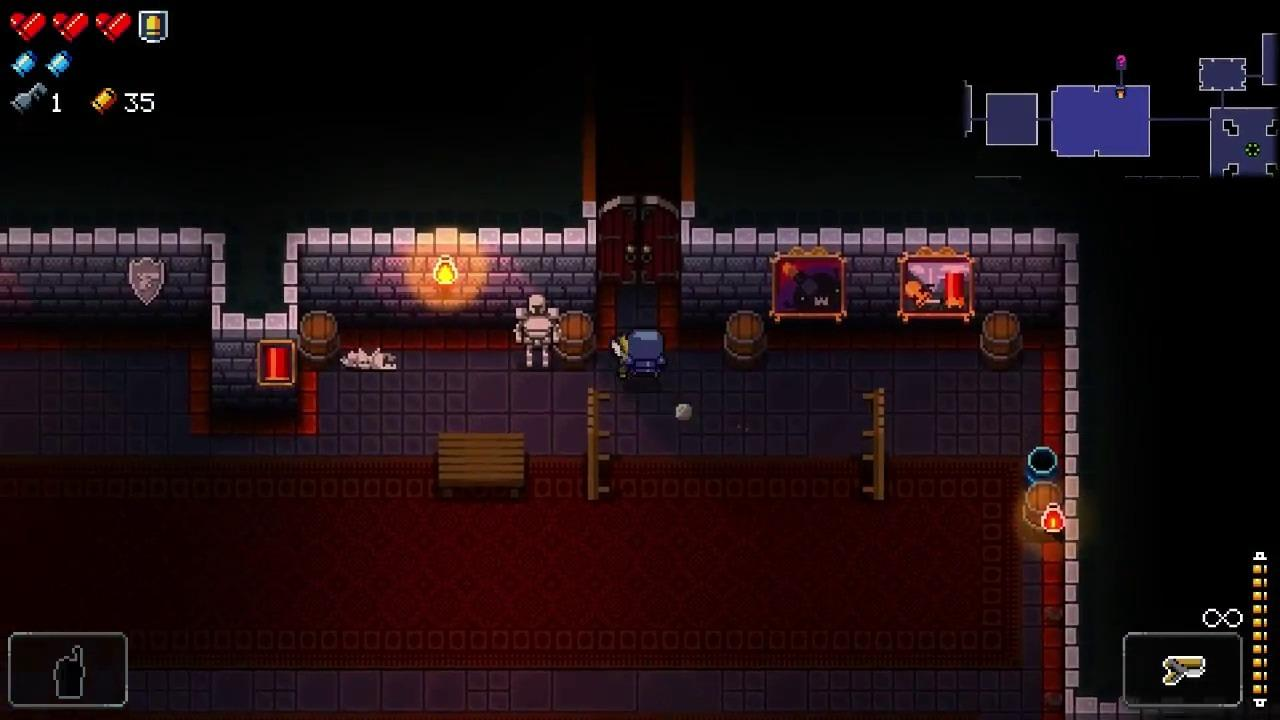player: (627, 330, 666, 380)
table: (439, 433, 524, 499), (587, 386, 610, 501), (862, 385, 884, 501)
unlocked_door: (596, 196, 680, 286)
